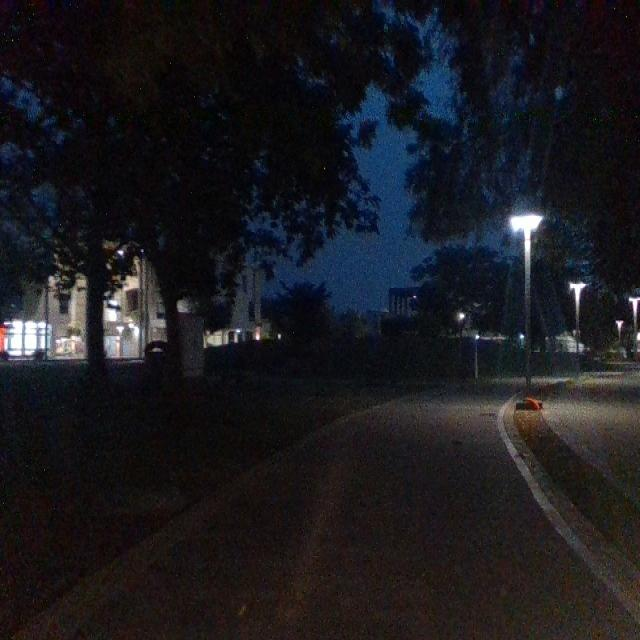lane: (90, 400, 633, 633)
